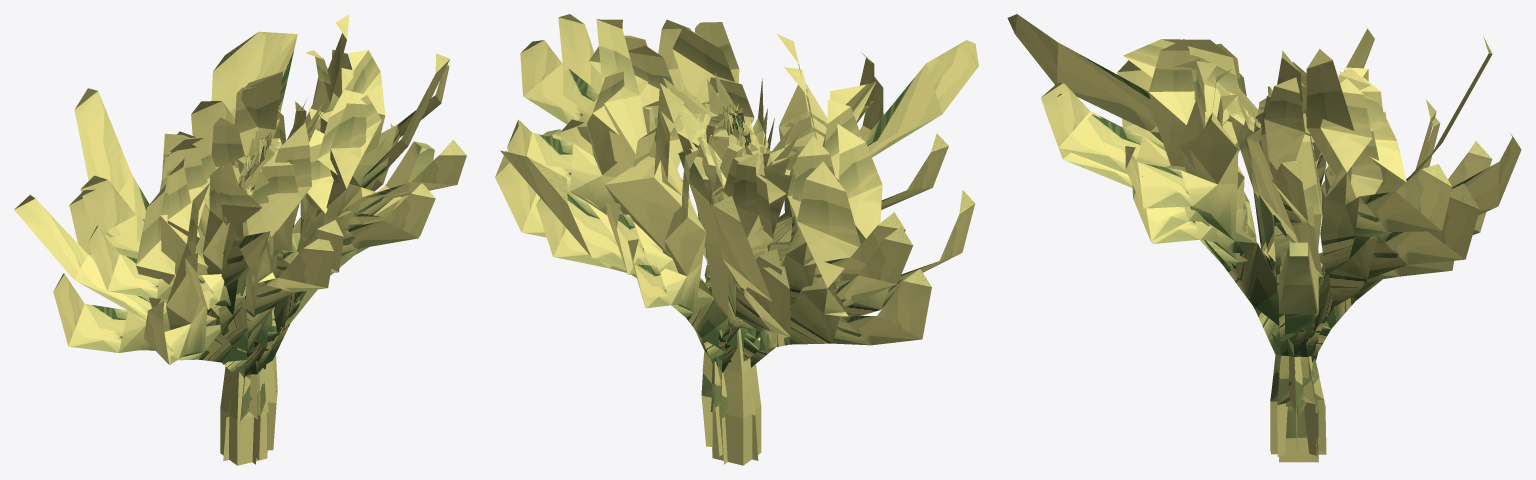
Rendered from seaweed01.fbx.
3 renders of one model, left to right at view 1: azimuth 30°, elevation 25°; view 2: azimuth 150°, elevation 25°; view 3: azimuth 270°, elevation 25°, orthographic. The views are drawn at different scales.
Visible parts, largest first — view 1: seaWeed.010, seaWeed.002, seaWeed.003, seaWeed; view 2: seaWeed.002, seaWeed.010, seaWeed.003, seaWeed; view 3: seaWeed.010, seaWeed.002, seaWeed.003, seaWeed.
Part boxes in pixels (bbox=[...]): seaWeed.010: bbox=[14, 14, 449, 465]; seaWeed.002: bbox=[53, 49, 466, 462]; seaWeed.003: bbox=[80, 101, 419, 345]; seaWeed: bbox=[220, 111, 434, 465]; seaWeed.002: bbox=[507, 19, 975, 459]; seaWeed.010: bbox=[495, 14, 978, 464]; seaWeed.003: bbox=[536, 54, 948, 350]; seaWeed: bbox=[542, 96, 761, 465]; seaWeed.010: bbox=[1007, 14, 1521, 462]; seaWeed.002: bbox=[1044, 58, 1492, 456]; seaWeed.003: bbox=[1041, 43, 1486, 328]; seaWeed: bbox=[1279, 113, 1321, 462].
Bounding box in the file's own units: 3.19 × 3.02 × 3.04.
